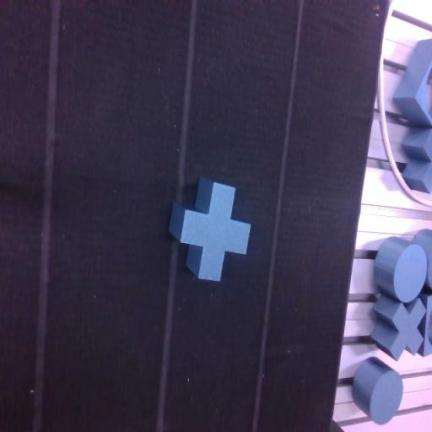cross: (170, 178, 250, 280), (372, 296, 425, 360)
